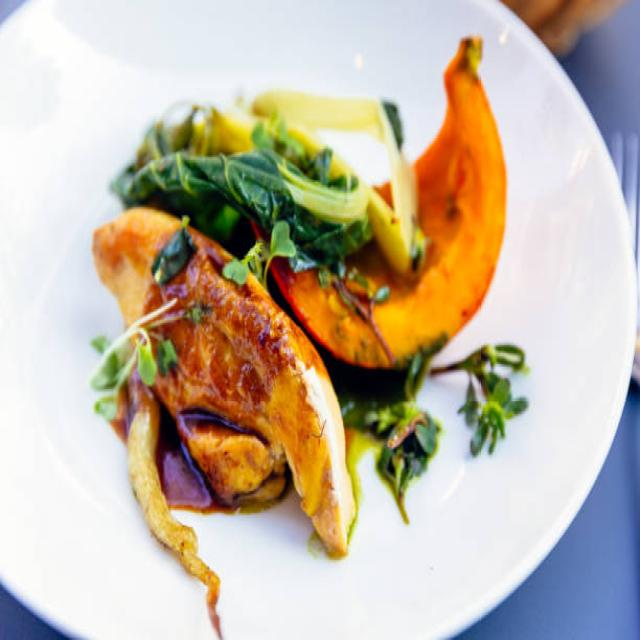pumpkin: (247, 63, 508, 361)
